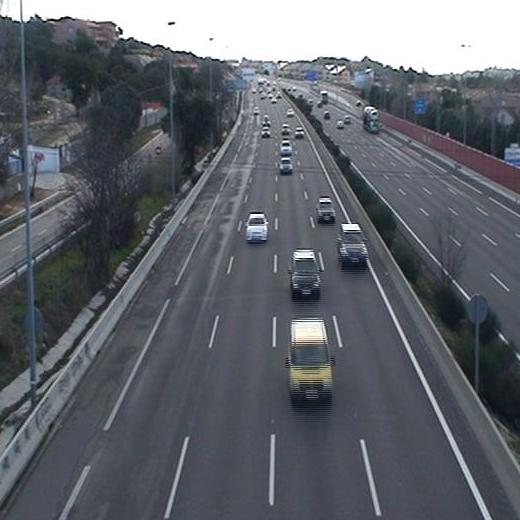car: (287, 248, 322, 299), (336, 222, 368, 267), (244, 211, 270, 244), (315, 197, 338, 224), (277, 156, 294, 174), (279, 139, 294, 156)
van: (284, 318, 338, 404)
